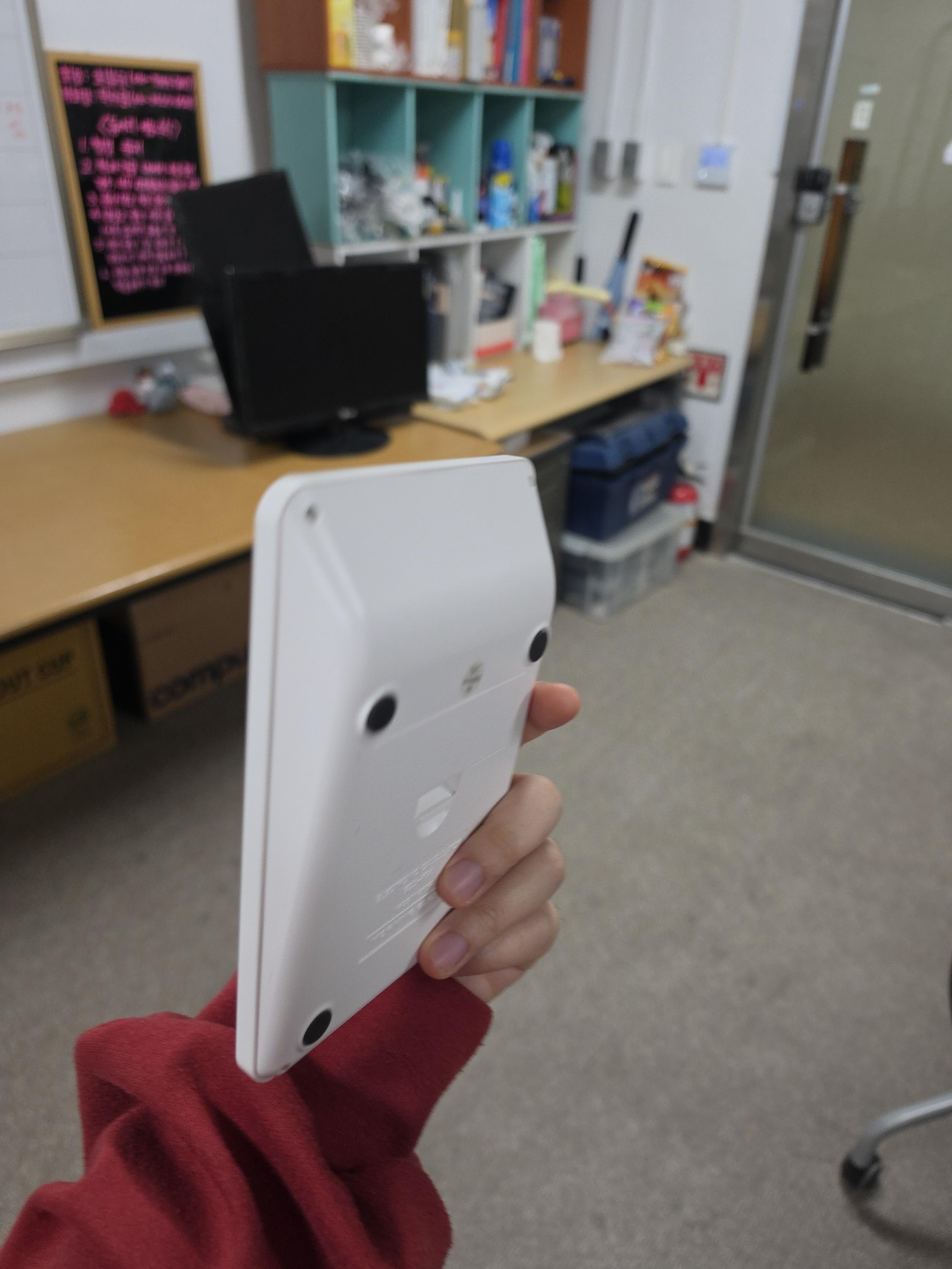calculator: (234, 454, 558, 1082)
